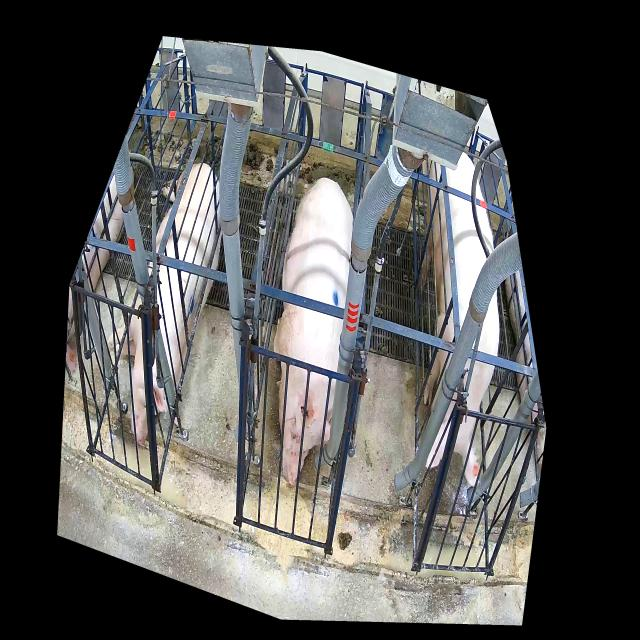pig: (108, 163, 222, 446), (418, 153, 500, 488), (273, 177, 353, 486)
